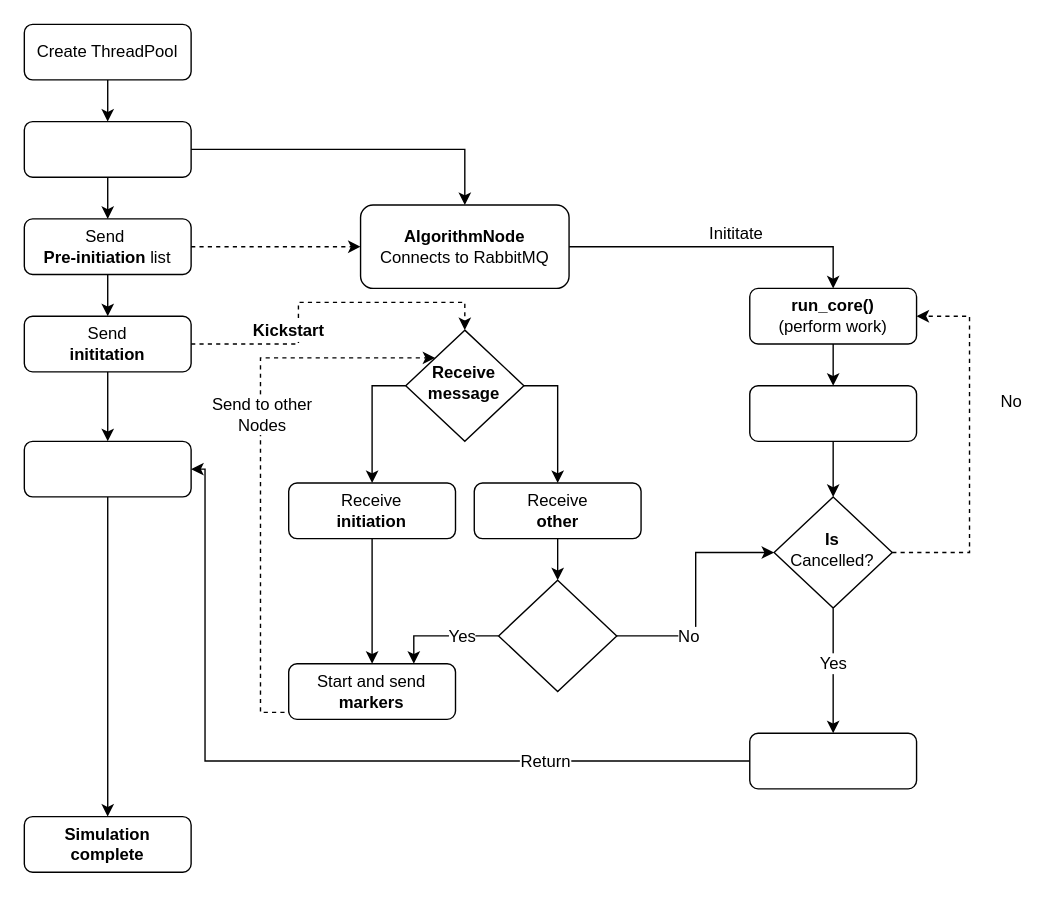
This 1045x897 diagram has some shape labels left out. Each missing label, with the centre of its shape:
"Await ThreadPool" belongs at pixel 107 468.
"Cleanup and done" belongs at pixel 832 760.
"Expecting Markers?" belongs at pixel 557 635.
"sleep (500 ms + rand)" belongs at pixel 832 412.
"Spawn AlgorithmNode (n)" belongs at pixel 107 148.
